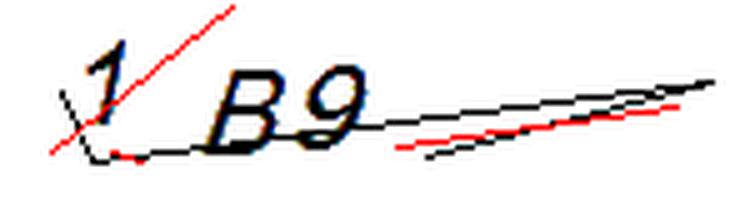1: (70, 33, 162, 144)
9: (288, 56, 378, 166)
B: (194, 58, 290, 165)
